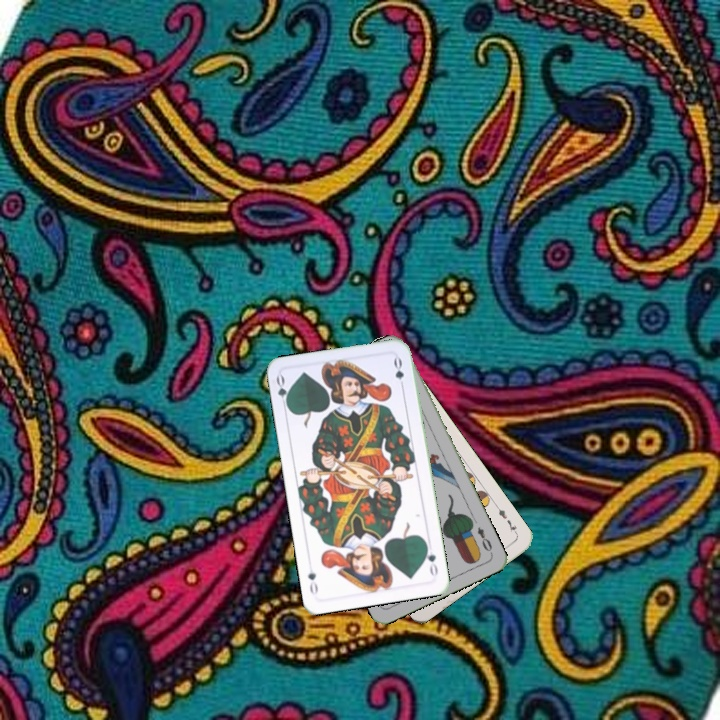E7: (492, 501, 520, 537)
EO: (473, 523, 495, 557)
GO: (272, 371, 292, 412), (421, 539, 440, 579)
